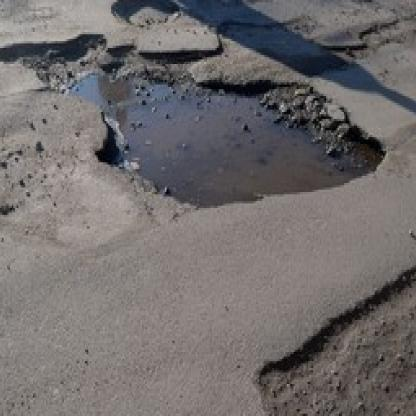pothole: (0, 32, 386, 210), (110, 0, 181, 28)
